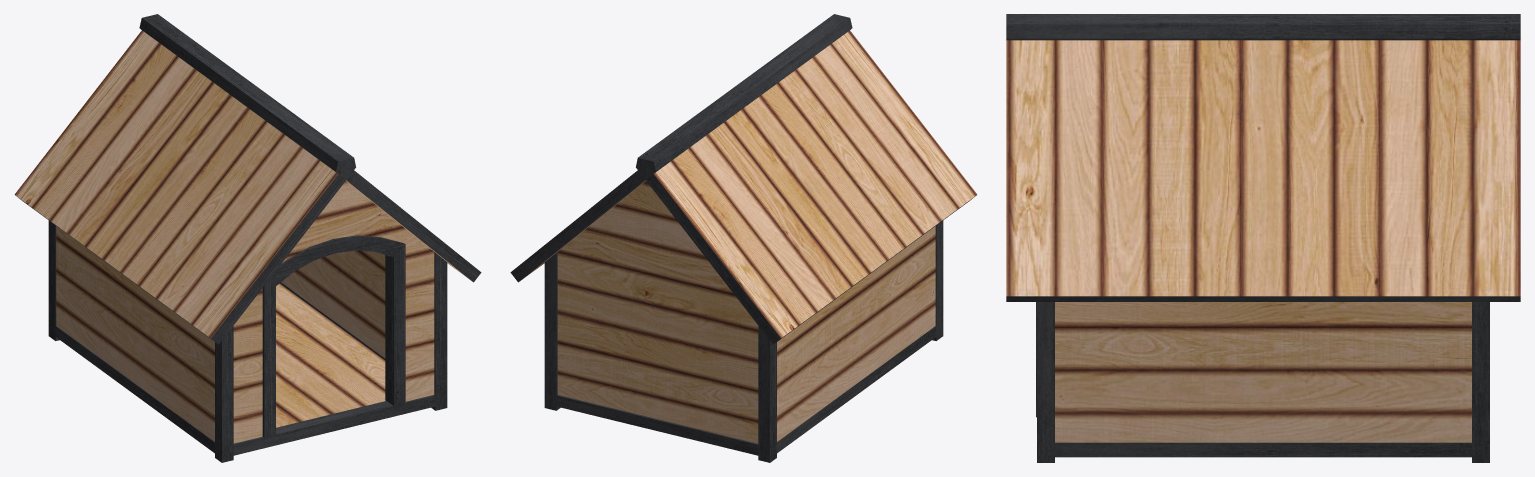
File: sweethome3d-scopia-dog-house.glb
3 renders of one model, left to right at view 1: azimuth 30°, elevation 25°; view 2: azimuth 150°, elevation 25°; view 3: azimuth 270°, elevation 25°, orthographic. The views are drawn at different scales.
Visible parts, largest first — view 1: Cube_Cube.001, Cube.002_Cube.000, Cube.001_Cube.002, Cube.003; view 2: Cube_Cube.001, Cube.002_Cube.000, Cube.003; view 3: Cube_Cube.001, Cube.003, Cube.002_Cube.000.
Boxes of the visible parts, box(x1,y1,x2,y2) form: Cube_Cube.001: box(14, 30, 481, 443); Cube.002_Cube.000: box(48, 220, 447, 462); Cube.001_Cube.002: box(262, 235, 405, 438); Cube.003: box(139, 14, 355, 179); Cube_Cube.001: box(510, 30, 977, 443); Cube.002_Cube.000: box(544, 220, 943, 462); Cube.003: box(636, 14, 852, 179); Cube_Cube.001: box(1006, 40, 1520, 442); Cube.003: box(1006, 14, 1520, 40); Cube.002_Cube.000: box(1037, 302, 1489, 462).
Bounding box in the file's own units: 71.6 × 71.86 × 90.01.
Materials: 2 (2 with a texture image).
